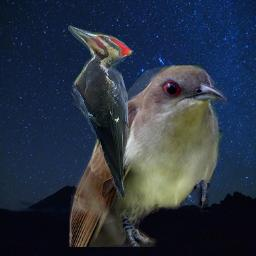Cuckoo: (69, 65, 227, 247)
Woodpecker: (66, 25, 133, 199)
